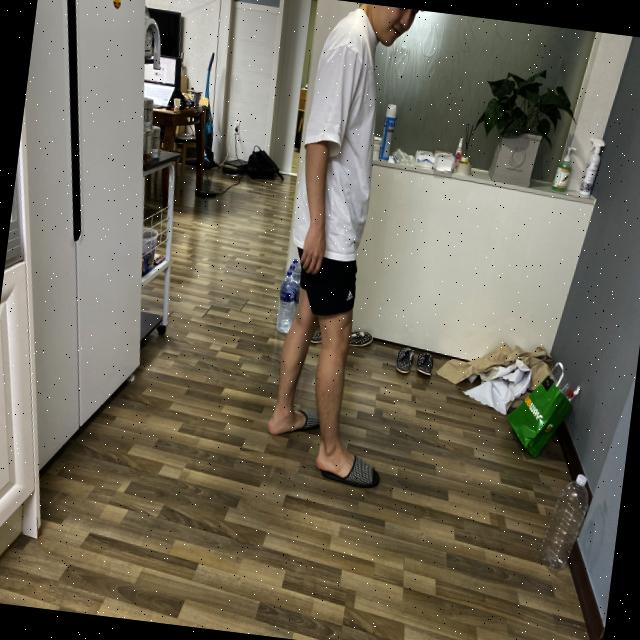no-boots: (308, 436, 391, 500), (258, 392, 328, 450)
